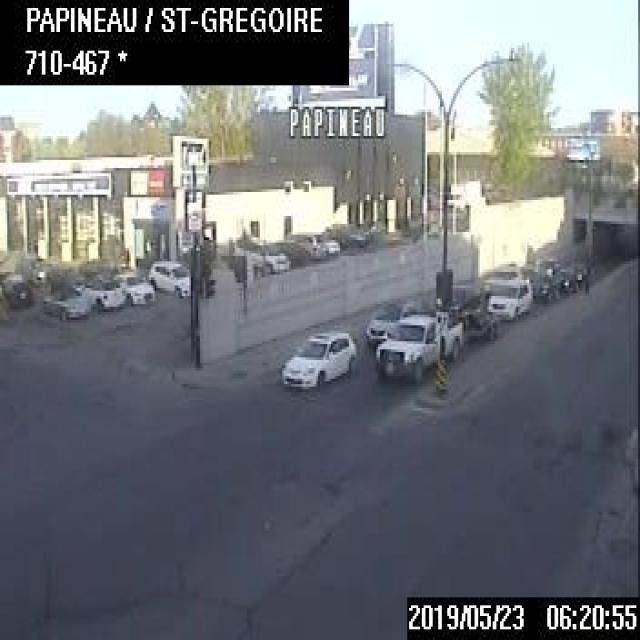vehicle: (373, 278, 499, 380), (278, 325, 355, 387), (486, 270, 534, 325), (232, 230, 288, 276), (81, 269, 129, 310), (148, 256, 190, 296), (40, 285, 90, 318), (117, 267, 155, 306), (445, 175, 484, 211), (292, 231, 338, 260), (0, 269, 31, 312), (365, 300, 397, 340), (534, 269, 570, 302)
